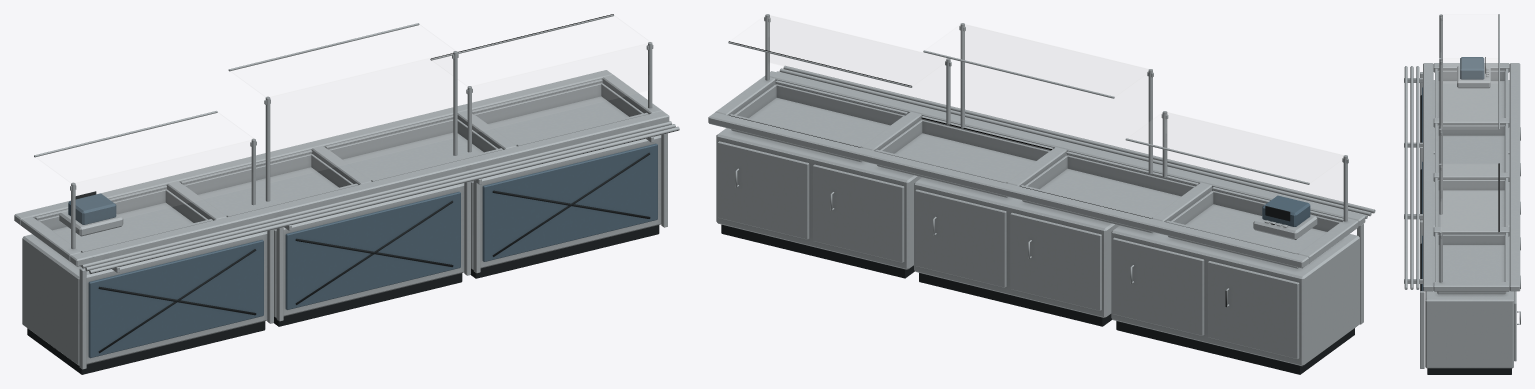
Rendered from school_servery.glb.
3 views of the same model, side by side, from view 1: azimuth 30°, elevation 25°; view 2: azimuth 150°, elevation 25°; view 3: azimuth 270°, elevation 25° (orthographic). The views are drawn at different scales.
Parts seen in each view (by area): view 1: school_servery_Body, ServeryGlass; view 2: school_servery_Body, ServeryGlass; view 3: school_servery_Body, ServeryGlass.
Part boxes in pixels (x1,y1,x2,y2): school_servery_Body: (14,14,679,374); ServeryGlass: (77,43,647,182); school_servery_Body: (708,14,1375,374); ServeryGlass: (769,15,1343,183); school_servery_Body: (1404,14,1520,374); ServeryGlass: (1443,58,1497,83).
Bounding box in the file's own units: 5 × 1.81 × 1.11.
Materials: 2 (1 with a texture image).
